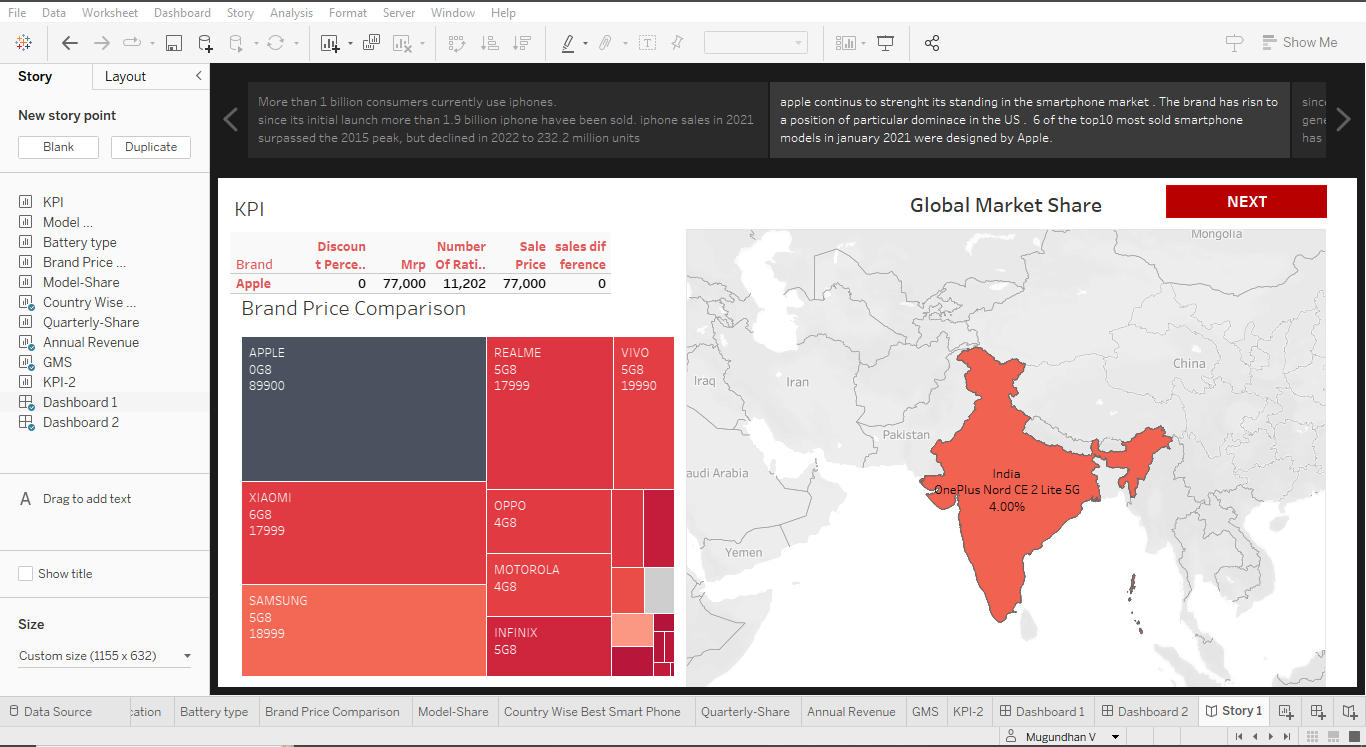

The page's visual inventory and layout, read from the dashboard file:
{"tool":"tableau","page":{"name":"Dashboard 1","canvas":[1000,1000],"units":"permille","ordinal":0},"visuals":[{"type":"worksheet","title":"KPI","mark":"Automatic","rows":["Brand"],"box":[6.9,12.7,986.1,974.7]},{"type":"dashboard-object","box":[832,14.2,142,64.9]},{"type":"worksheet","title":"Brand Price Comparison","mark":"Automatic","box":[16.4,218.3,387,769]}]}

Visuals, with their boxes on the dashboard's canvas, which has no fixed pixel size, in thousandths of its width and height (x1, y1, x2, y2). These are canvas units, not pixel positions in the 1366x747 screenshot, which may show the page scaled, cropped or inside an application window:
"KPI" worksheet: detection(7, 13, 993, 987)
dashboard-object: detection(832, 14, 974, 79)
"Brand Price Comparison" worksheet: detection(16, 218, 403, 987)
